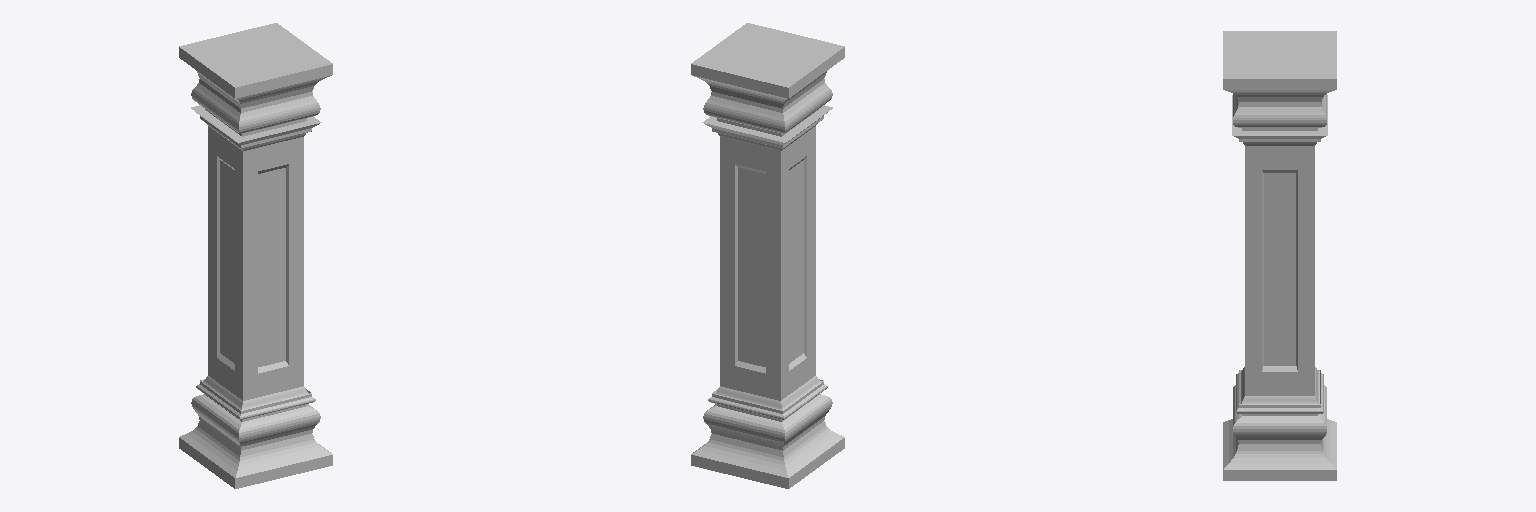
The model's file is Column2.obj.
The picture shows the model from 3 angles: view 1: azimuth 30°, elevation 25°; view 2: azimuth 150°, elevation 25°; view 3: azimuth 270°, elevation 25°; orthographic projection.
Parts seen in each view (by area): view 1: Cube_Cube.003; view 2: Cube_Cube.003; view 3: Cube_Cube.003.
Part boxes in pixels (x1,y1,x2,y2): Cube_Cube.003: (179,23,332,488); Cube_Cube.003: (691,23,844,488); Cube_Cube.003: (1223,31,1336,480).
Bounding box in the file's own units: 1.87 × 7.31 × 1.87.